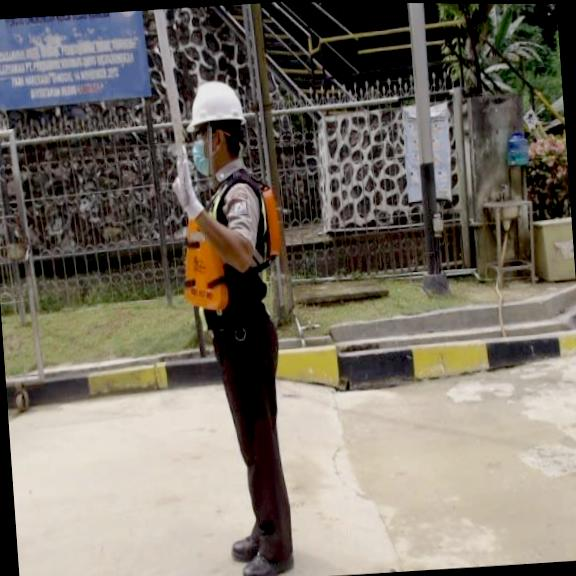safety_vest: (166, 193, 288, 313)
